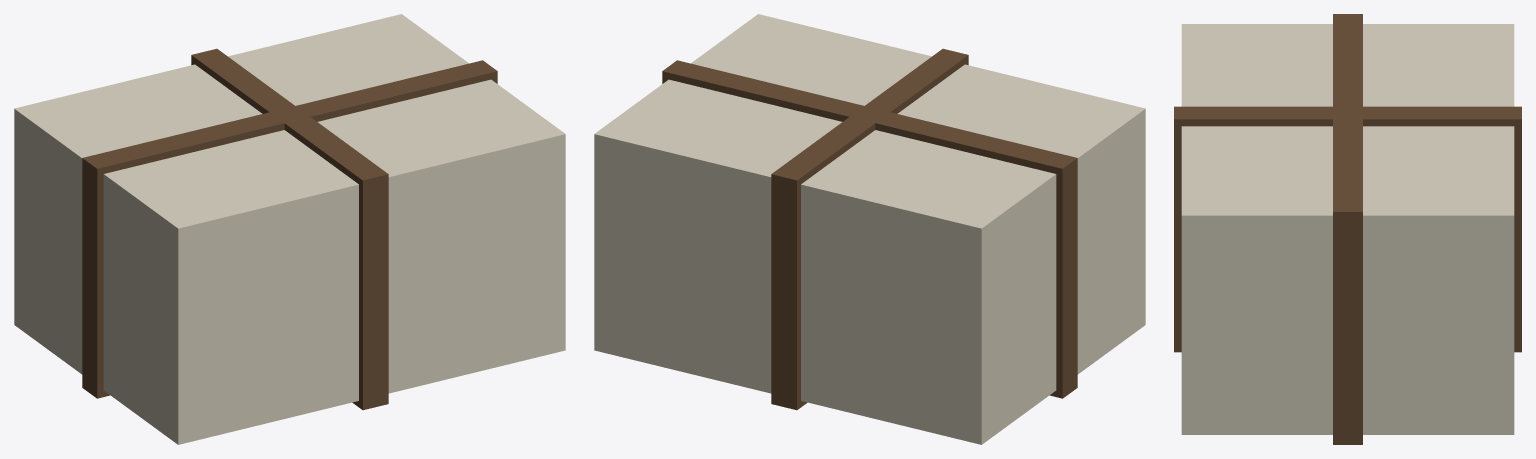
Rendered from find-paper.glb.
3 renders of one model, left to right at view 1: azimuth 30°, elevation 25°; view 2: azimuth 150°, elevation 25°; view 3: azimuth 270°, elevation 25°, orthographic.
Visible parts, largest first — view 1: 00_#d8d2c0_r110, 01_#6a5038_noshadow_r110; view 2: 00_#d8d2c0_r110, 01_#6a5038_noshadow_r110; view 3: 00_#d8d2c0_r110, 01_#6a5038_noshadow_r110.
Part boxes in pixels (box(x1,y1,x2,y2)): 00_#d8d2c0_r110: box(14, 14, 565, 444); 01_#6a5038_noshadow_r110: box(82, 48, 497, 410); 00_#d8d2c0_r110: box(594, 14, 1145, 444); 01_#6a5038_noshadow_r110: box(662, 48, 1077, 410); 00_#d8d2c0_r110: box(1181, 24, 1514, 434); 01_#6a5038_noshadow_r110: box(1174, 14, 1521, 444).
Bounding box in the file's own units: 0.31 × 0.17 × 0.23.
